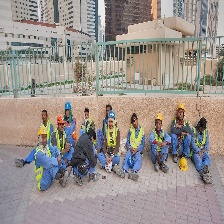helmet: (38, 123, 48, 136), (57, 115, 65, 124), (65, 101, 72, 110)
person: (191, 115, 214, 190), (71, 125, 100, 184), (169, 99, 192, 168), (36, 125, 61, 187), (100, 110, 123, 175), (149, 114, 172, 175), (124, 113, 144, 178), (51, 113, 66, 155), (63, 103, 76, 143), (80, 107, 96, 135)
vest: (193, 125, 208, 158), (104, 126, 119, 154), (130, 126, 144, 155), (151, 129, 165, 154), (55, 126, 66, 152)
